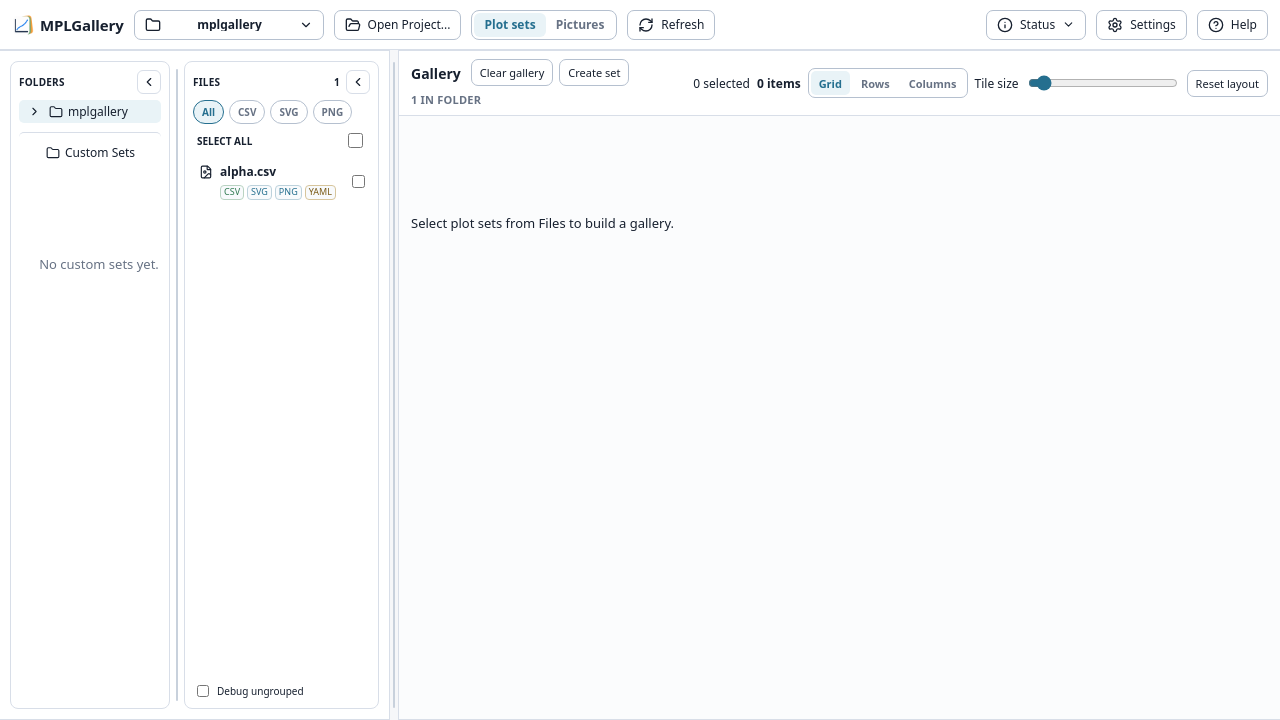
Test case: App explorer › renders compact folder-only navigation and keeps files in the files pane
Expected: the text "mplgallery" in the row of "Status" is shown, x1=197 y1=16 x2=262 y2=32
Expected: the text "data" is not shown
Click the button named "Expand mplgallery" at [31, 112], box x1=22 y1=102 x2=40 y2=122
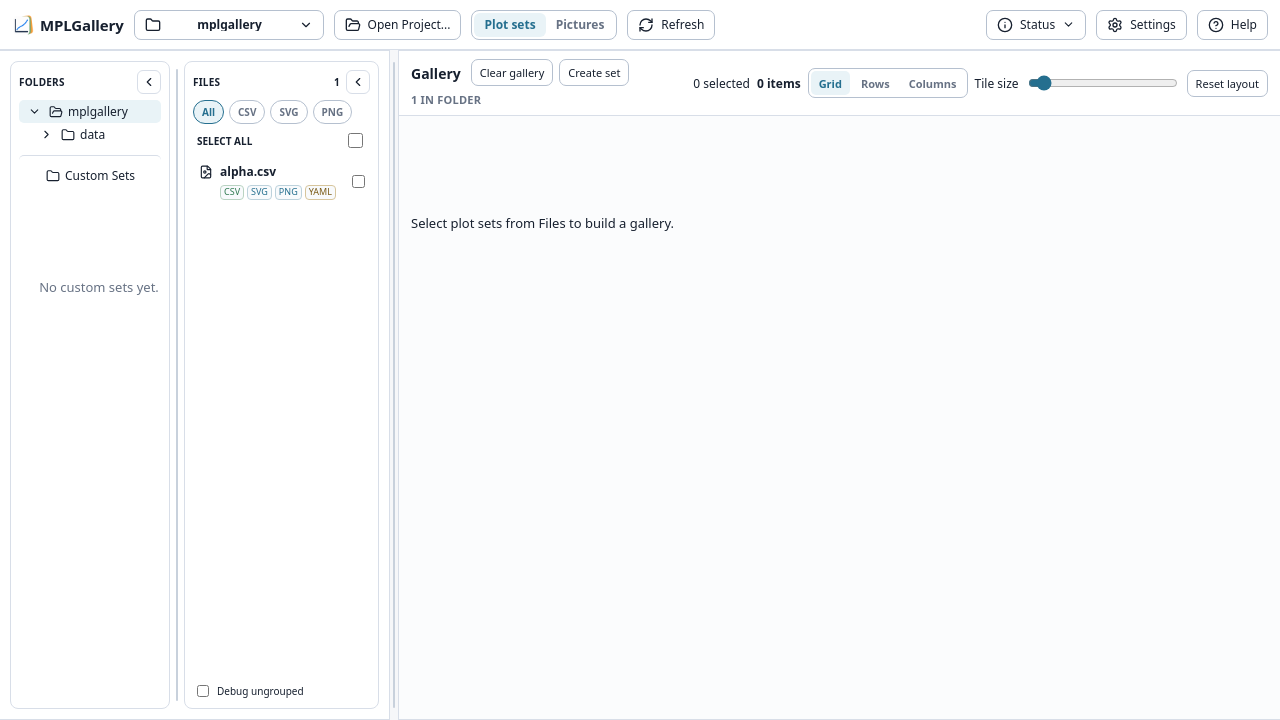
Expected: the text "processed" is not shown
Expected: the text "data" is shown, x1=80 y1=126 x2=105 y2=143
Click the button named "Expand data" at [43, 134], box x1=34 y1=124 x2=52 y2=144
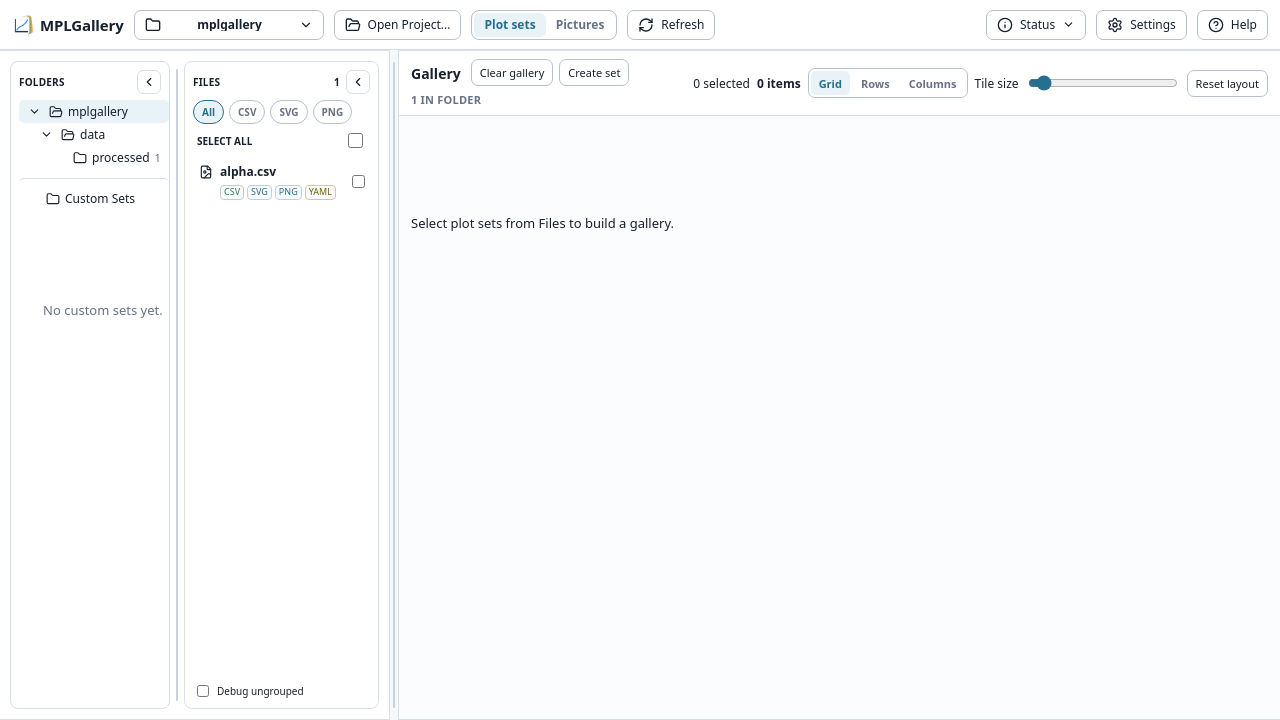
Expected: the text "alpha.csv" is shown, x1=220 y1=163 x2=276 y2=180
Expected: the text "processed" is shown, x1=92 y1=149 x2=150 y2=166
